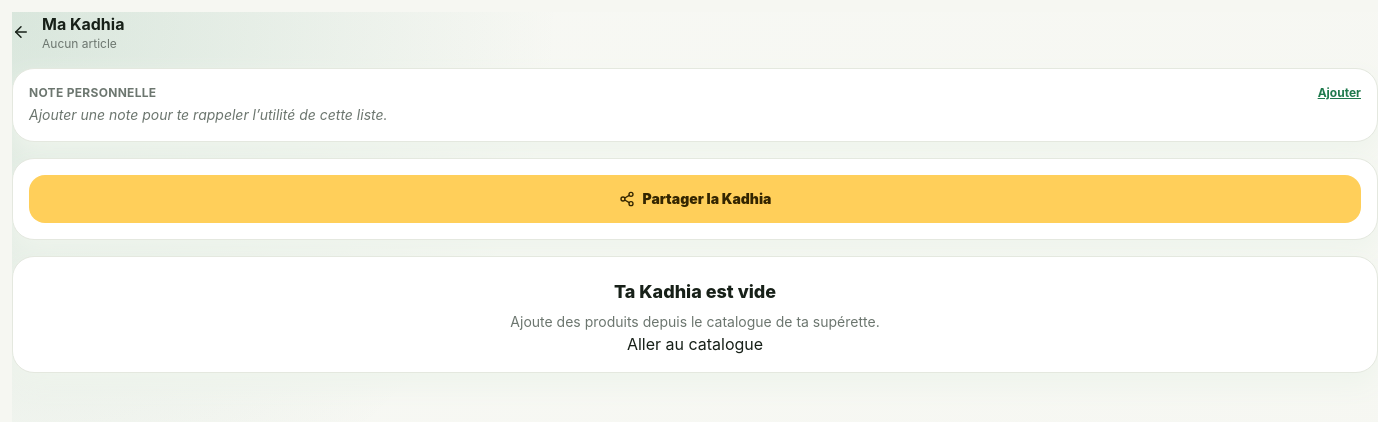
Test case: KadhiaDetailPage — note personnelle › affiche une erreur si la génération du lien échoue
The width and height of the screenshot is (1378, 422).
Expected: the text "Partager la Kadhia" is shown, 618,189 -> 771,209
Step 1. Click the button "Partager la Kadhia" → [695, 199], box 29,175 -> 1361,223
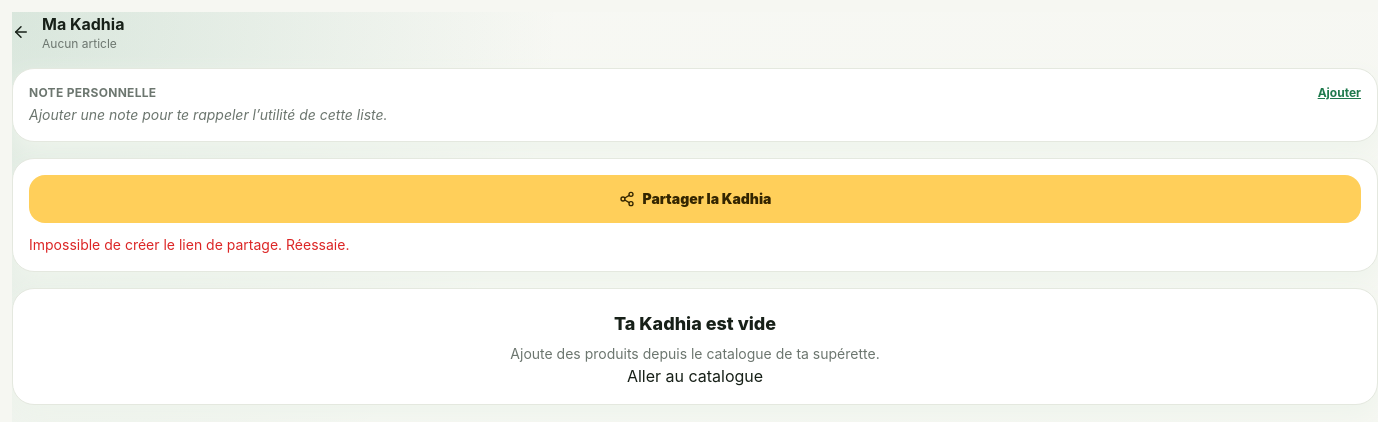
Expected: the text "Impossible de créer le lien de partage. Réessaie." is shown, 29,236 -> 349,253
